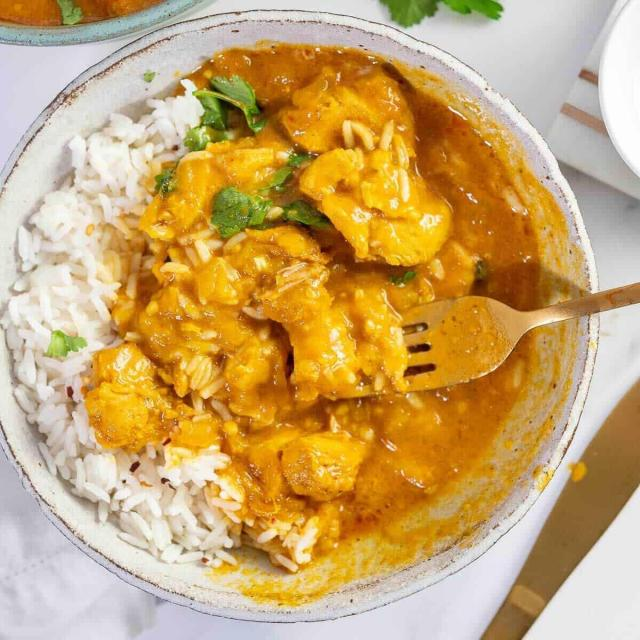chicken: (183, 68, 553, 576)
rice: (7, 79, 199, 567)
